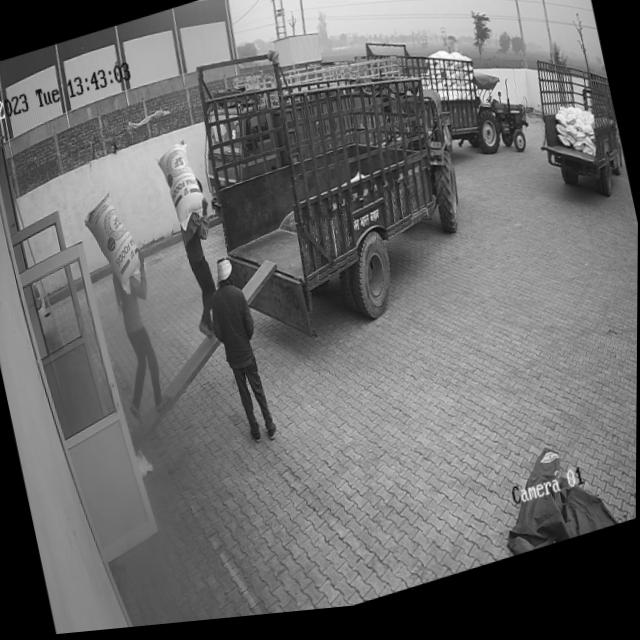sack: (81, 188, 146, 307), (154, 139, 208, 240)
